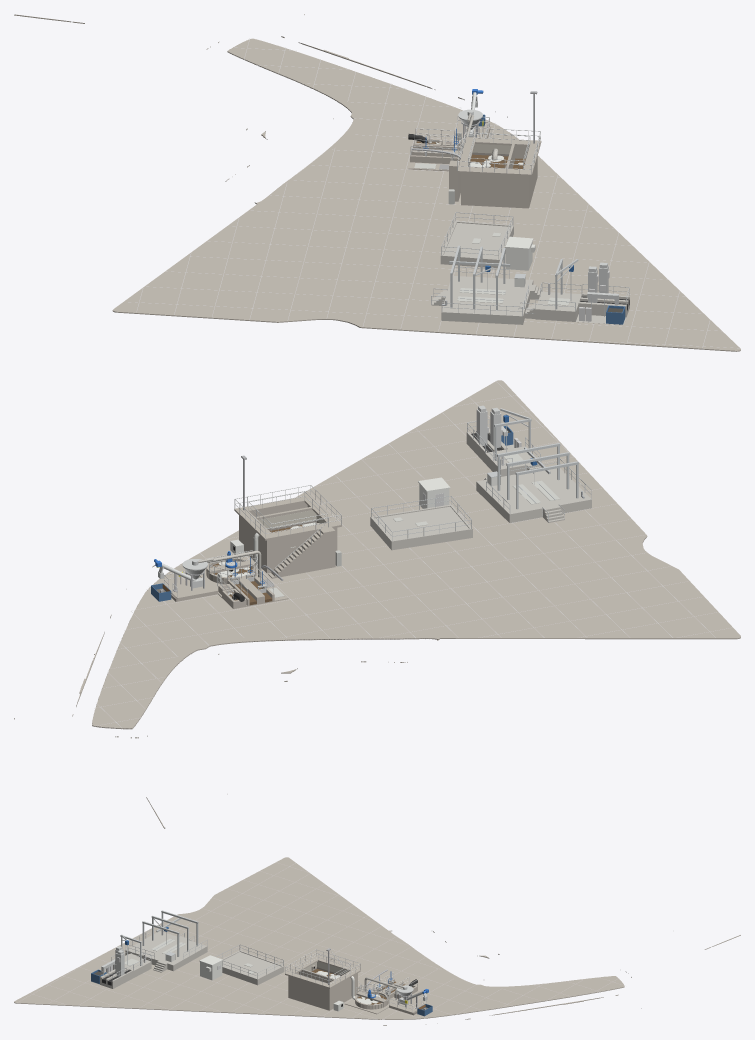
File: Pretraitement.glb
3 views of the same model, one above another, from view 1: azimuth 30°, elevation 25°; view 2: azimuth 150°, elevation 25°; view 3: azimuth 270°, elevation 25° (orthographic). The views are drawn at different scales.
Visible parts, largest first — view 1: PT_Dalle_beton, PT_P3_Arrivee, PT_B04_Degrillage_grossier, PT_B05_Degrillage, PT_Dalle_joints, PT_B01_Bache_cabine, PT_P2_Dessableur, PT_P1_Classificateur_sable; view 2: PT_Dalle_beton, PT_P3_Arrivee, PT_B04_Degrillage_grossier, PT_B01_Bache_cabine, PT_Dalle_joints, PT_P2_Dessableur, PT_B05_Degrillage, PT_P1_Classificateur_sable; view 3: PT_Dalle_beton, PT_P3_Arrivee, PT_B04_Degrillage_grossier, PT_B01_Bache_cabine, PT_B05_Degrillage, PT_P2_Dessableur, PT_Dalle_joints, PT_P1_Classificateur_sable.
Part boxes in pixels (bbox=[...]): PT_Dalle_beton: bbox=[14, 14, 740, 351]; PT_P3_Arrivee: bbox=[448, 91, 541, 208]; PT_B04_Degrillage_grossier: bbox=[431, 245, 543, 324]; PT_B05_Degrillage: bbox=[518, 259, 629, 324]; PT_Dalle_joints: bbox=[124, 38, 739, 348]; PT_B01_Bache_cabine: bbox=[440, 212, 535, 270]; PT_P2_Dessableur: bbox=[408, 115, 490, 171]; PT_P1_Classificateur_sable: bbox=[453, 89, 490, 146]; PT_Dalle_beton: bbox=[14, 380, 740, 828]; PT_P3_Arrivee: bbox=[230, 455, 341, 578]; PT_B04_Degrillage_grossier: bbox=[476, 443, 591, 522]; PT_B01_Bache_cabine: bbox=[370, 477, 472, 550]; PT_Dalle_joints: bbox=[93, 381, 731, 727]; PT_P2_Dessableur: bbox=[200, 550, 288, 608]; PT_B05_Degrillage: bbox=[466, 405, 541, 476]; PT_P1_Classificateur_sable: bbox=[151, 558, 217, 601]; PT_Dalle_beton: bbox=[14, 857, 740, 1025]; PT_P3_Arrivee: bbox=[285, 948, 363, 1011]; PT_B04_Degrillage_grossier: bbox=[125, 910, 207, 972]; PT_B01_Bache_cabine: bbox=[199, 944, 284, 985]; PT_B05_Degrillage: bbox=[90, 934, 151, 988]; PT_P2_Dessableur: bbox=[345, 969, 417, 1014]; PT_Dalle_joints: bbox=[17, 863, 620, 1018]; PT_P1_Classificateur_sable: bbox=[389, 984, 432, 1016].
Bounding box in the file's own units: 60.28 × 10.15 × 110.
Materials: 28 (28 with a texture image).
